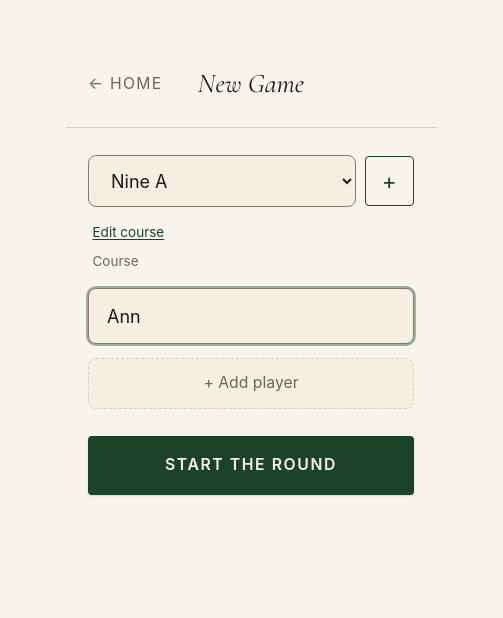
Setup › names the course select and the new-course name field when signed in
Expected: the dropdown showing "Nine A" is shown, left=88, top=155, right=356, bottom=207
Click the button named "new course": (389, 181) left=364, top=156, right=414, bottom=206
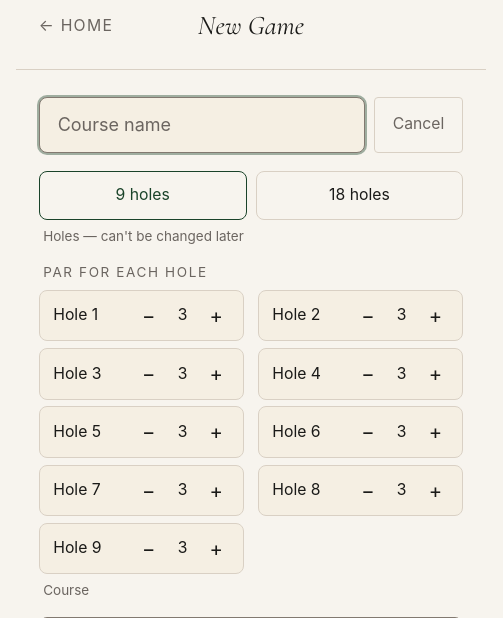
Now the field labelled "Course name" is shown, box left=39, top=96, right=365, bottom=152
